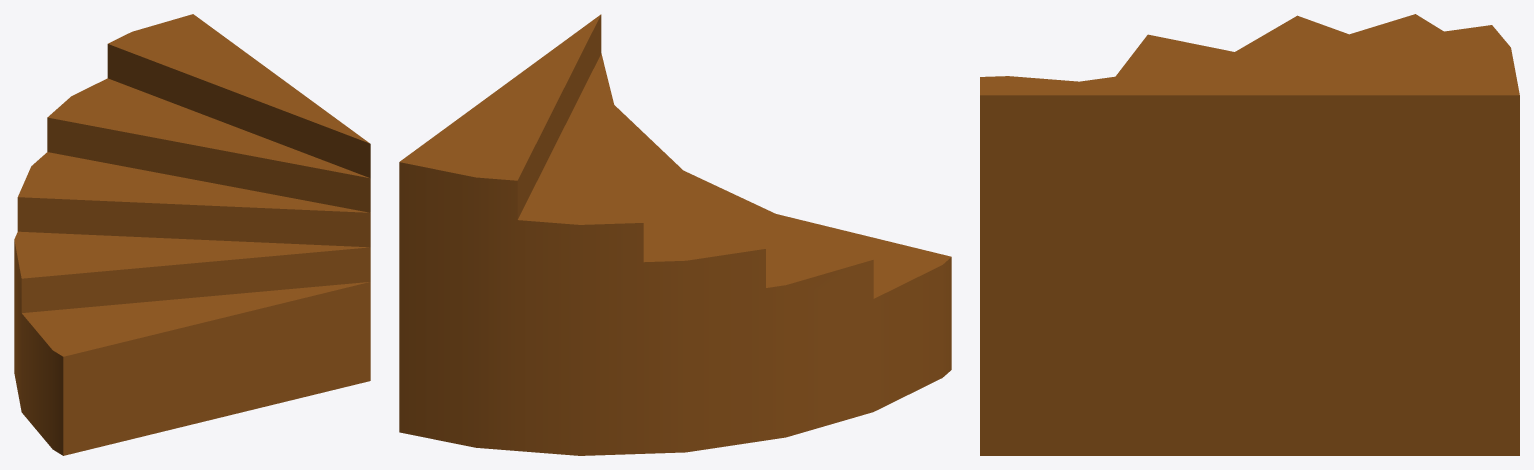
Rendered from Dungeon_Tile_Stairs_Spiral_Part_Wooden_01.fbx.
3 renders of one model, left to right at view 1: azimuth 30°, elevation 25°; view 2: azimuth 150°, elevation 25°; view 3: azimuth 270°, elevation 25°, orthographic. The views are drawn at different scales.
Visible parts, largest first — view 1: Dungeon_Tile_Stairs_Spiral_Part_Wooden_01; view 2: Dungeon_Tile_Stairs_Spiral_Part_Wooden_01; view 3: Dungeon_Tile_Stairs_Spiral_Part_Wooden_01.
Part boxes in pixels (x1,y1,x2,y2): Dungeon_Tile_Stairs_Spiral_Part_Wooden_01: (14, 14, 370, 455); Dungeon_Tile_Stairs_Spiral_Part_Wooden_01: (399, 14, 951, 455); Dungeon_Tile_Stairs_Spiral_Part_Wooden_01: (980, 14, 1519, 455).
Size of the model in its own units: 40.95 by 30.07 by 40.79.
